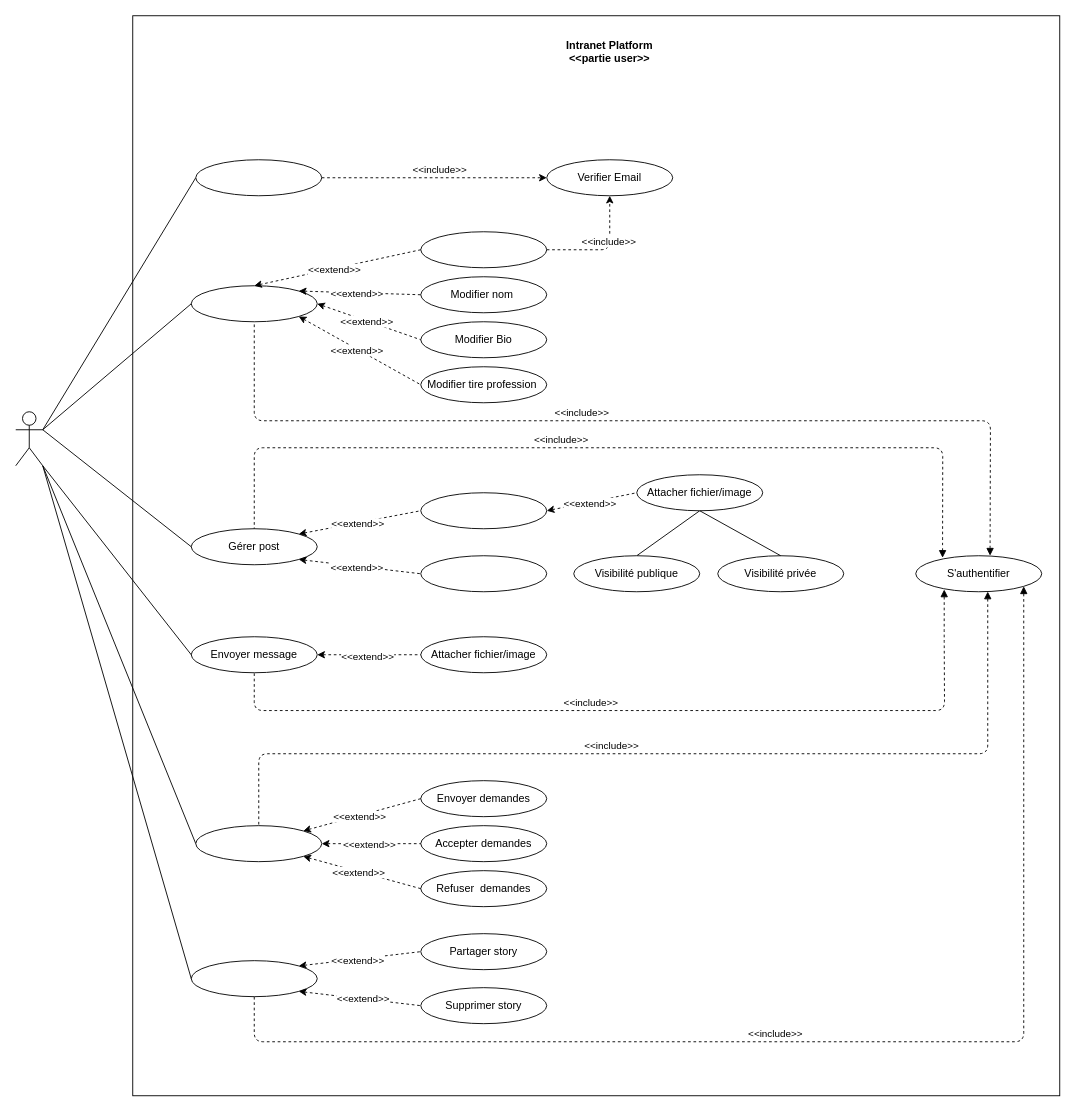
The diagram is 1076 pixels wide and 1112 high, and some of its shapes have lost their labels. Here are the shapes that lost their labels. From the top down, the centre of each, then its label:
(258,177): S'inscrire
(483,249): Modifier Mot de passe
(253,303): Gérer profile
(29,438): User
(483,510): Partager post
(483,573): Supprimer post
(258,843): Gérer demandes
(253,978): Gérer story
